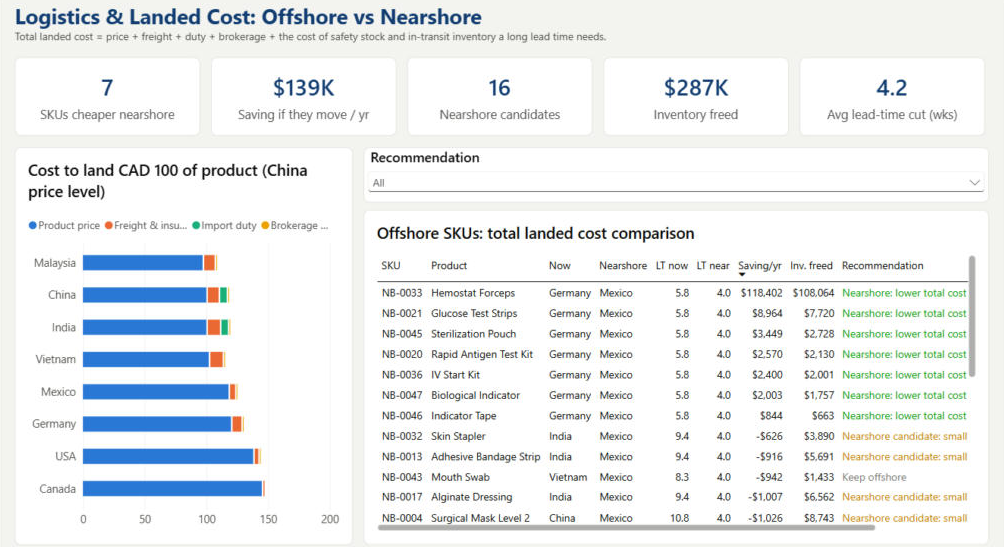

The page's visual inventory and layout, read from the dashboard file:
{"tool":"powerbi","page":{"name":"Landed Cost & Nearshoring","canvas":[1280,720],"ordinal":5},"visuals":[{"type":"barChart","title":"Cost to land CAD 100 of product (China price level)","fields":{"Category":["landed_cost_by_country.country"],"Y":["_Measures.Price","_Measures.Freight","_Measures.Duty","_Measures.Brokerage"]},"box":[20,194,430,506],"z":46000},{"type":"textbox","box":[20,8,1240,64],"z":47000},{"type":"card","fields":{"Values":["_Measures.Nearshore Cheaper SKUs"]},"box":[20,80,236,100],"z":48000},{"type":"card","fields":{"Values":["_Measures.Nearshore Saving"]},"box":[270,80,236,100],"z":49000},{"type":"card","fields":{"Values":["_Measures.Nearshore Candidates"]},"box":[520,80,236,100],"z":50000},{"type":"card","fields":{"Values":["_Measures.Inventory Released"]},"box":[770,80,236,100],"z":51000},{"type":"card","fields":{"Values":["_Measures.Lead Time Cut Wks"]},"box":[1020,80,236,100],"z":52000},{"type":"slicer","fields":{"Values":["landed_cost_by_sku.recommendation"]},"box":[464,194,796,70],"z":53000},{"type":"tableEx","title":"Offshore SKUs: total landed cost comparison","fields":{"Values":["landed_cost_by_sku.sku","landed_cost_by_sku.product_name","landed_cost_by_sku.current_country","landed_cost_by_sku.nearshore_country","landed_cost_by_sku.current_lead_time_wks","landed_cost_by_sku.nearshore_lead_time_wks","_Measures.Landed Saving","landed_cost_by_sku.inventory_released_cad","landed_cost_by_sku.recommendation"]},"box":[464,274,796,426],"z":54000}]}

Visuals, with their boxes on the page's 1280x720 design canvas (x1, y1, x2, y2). These are canvas units, not pixel positions in the 1004x547 screenshot, which may show the page scaled, cropped or inside an application window:
"Cost to land CAD 100 of product (China price level)" barChart: [left=20, top=194, right=450, bottom=700]
textbox: [left=20, top=8, right=1260, bottom=72]
card - _Measures.Nearshore Cheaper SKUs: [left=20, top=80, right=256, bottom=180]
card - _Measures.Nearshore Saving: [left=270, top=80, right=506, bottom=180]
card - _Measures.Nearshore Candidates: [left=520, top=80, right=756, bottom=180]
card - _Measures.Inventory Released: [left=770, top=80, right=1006, bottom=180]
card - _Measures.Lead Time Cut Wks: [left=1020, top=80, right=1256, bottom=180]
slicer - landed_cost_by_sku.recommendation: [left=464, top=194, right=1260, bottom=264]
"Offshore SKUs: total landed cost comparison" tableEx: [left=464, top=274, right=1260, bottom=700]
